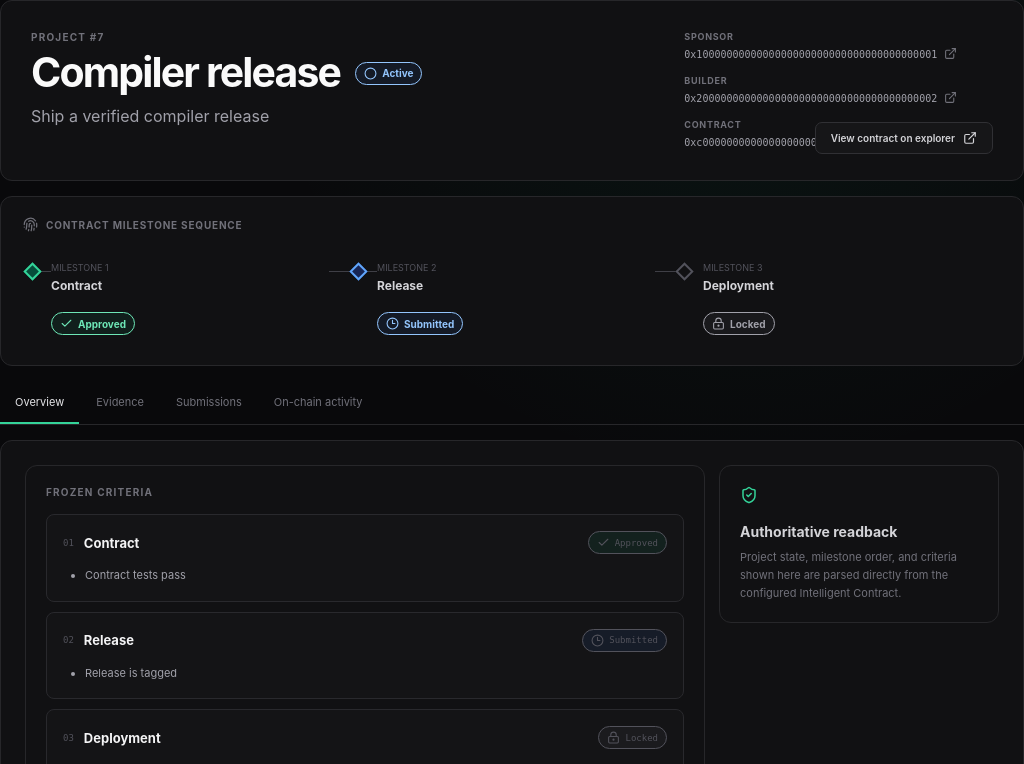
Test case: ProjectWorkspace › shows all authoritative workspace tabs and never fabricates empty activity
The width and height of the screenshot is (1024, 764).
expect the heading "Compiler release" is shown: met, box [31, 51, 340, 94]
expect the tab "Overview" is shown: met, box [0, 381, 79, 424]
Click the tab "On-chain activity" at coordinates (318, 402), box [259, 381, 378, 424]
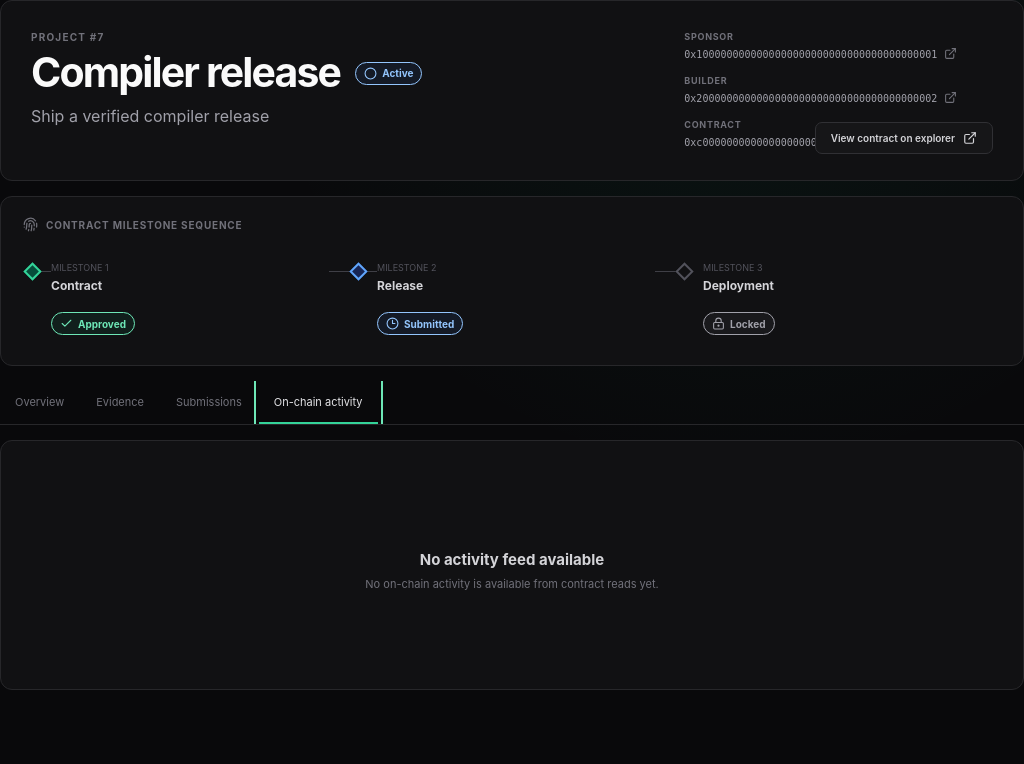
expect the text "No on-chain activity is available from contract reads yet." is shown: met, box [365, 576, 659, 593]
